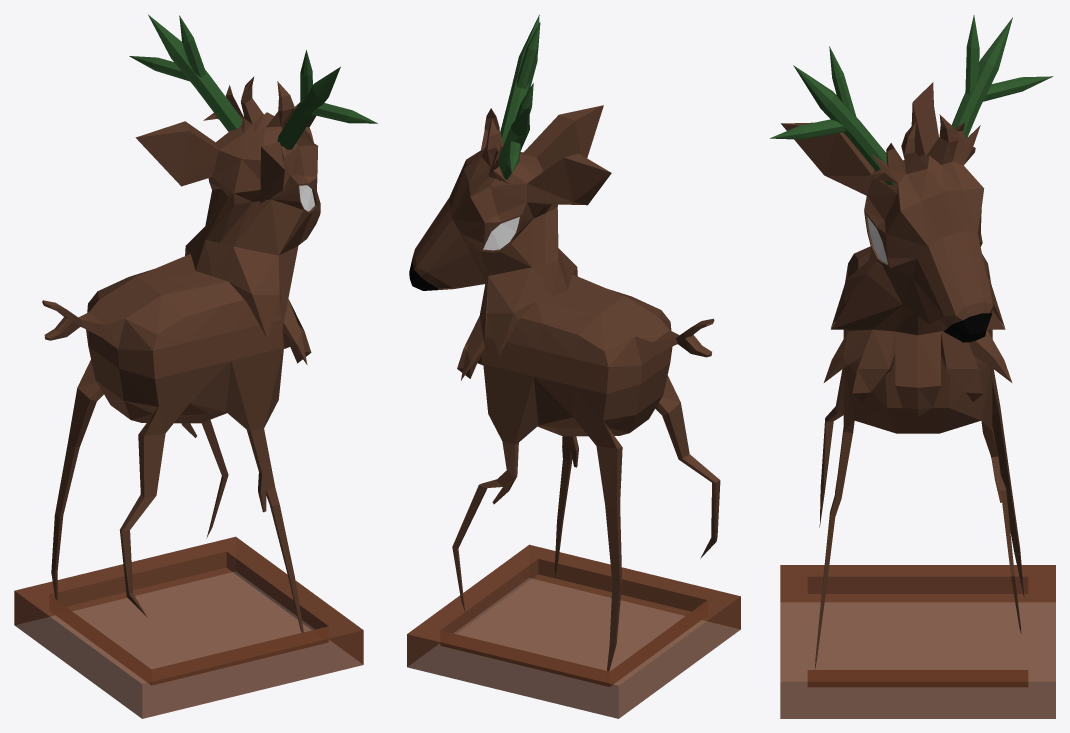
File: 3d_minion_yggradsil_green.fbx
3 renders of one model, left to right at view 1: azimuth 30°, elevation 25°; view 2: azimuth 150°, elevation 25°; view 3: azimuth 270°, elevation 25°, orthographic. The views are drawn at different scales.
Parts seen in each view (by area): view 1: yiggradsil_green, SM_will_o_wisp_01; view 2: yiggradsil_green, SM_will_o_wisp_01; view 3: yiggradsil_green, SM_will_o_wisp_01.
Boxes of the visible parts, x1,y1,x2,y2 form: yiggradsil_green: (42, 14, 377, 632); SM_will_o_wisp_01: (14, 536, 363, 718); yiggradsil_green: (409, 14, 720, 671); SM_will_o_wisp_01: (407, 544, 740, 718); yiggradsil_green: (769, 15, 1053, 669); SM_will_o_wisp_01: (780, 565, 1055, 718).
Size of the model in its own units: 133 by 262 by 104.
2 materials, 2 textured.
